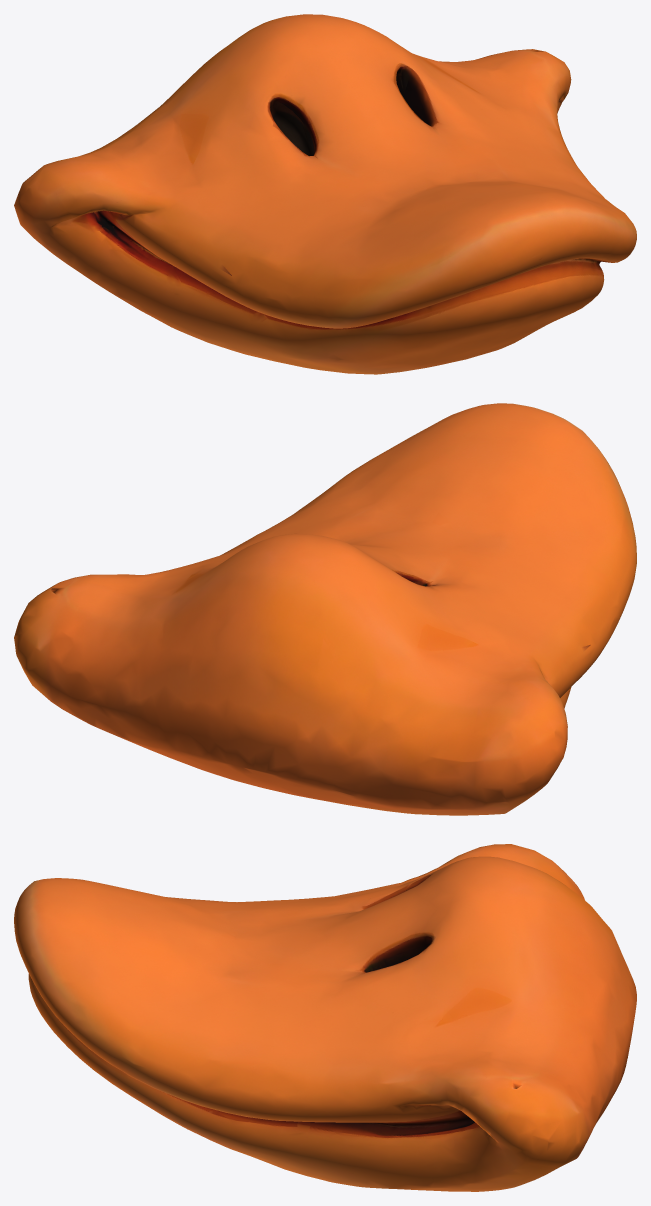
File: Meshy_AI_Duckbreak_0312082222_texture.fbx
3 renders of one model, top to bottom at view 1: azimuth 30°, elevation 25°; view 2: azimuth 150°, elevation 25°; view 3: azimuth 270°, elevation 25°, orthographic. The views are drawn at different scales.
Visible parts, largest first — view 1: Mesh_0; view 2: Mesh_0; view 3: Mesh_0.
Part boxes in pixels (x1,y1,x2,y2): Mesh_0: (14,14,636,374); Mesh_0: (14,403,636,815); Mesh_0: (14,844,636,1191).
Bounding box in the file's own units: 200 × 94.79 × 196.
Materials: 1 (1 with a texture image).
